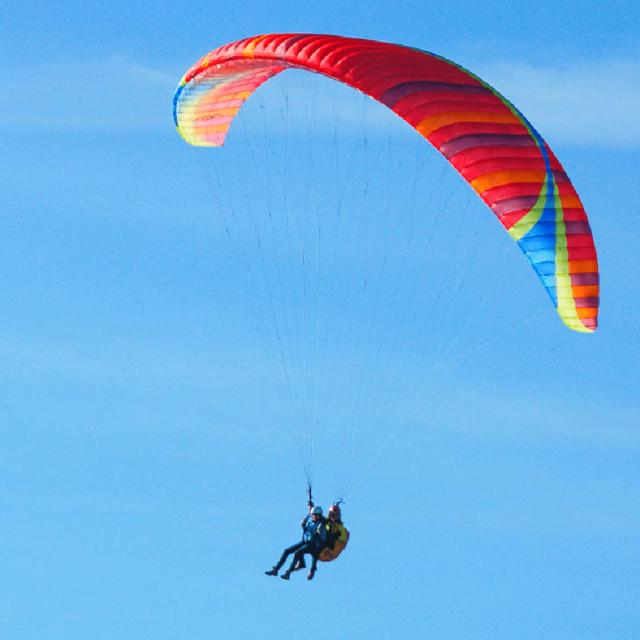paraglider: (170, 29, 601, 335)
